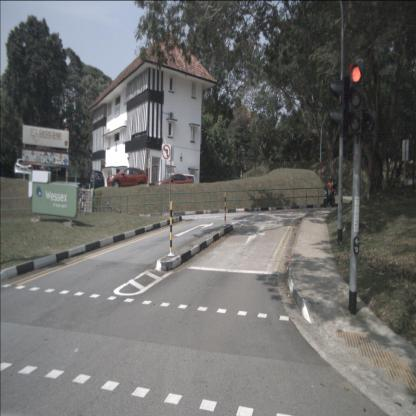vehicle-car: (107, 167, 147, 190), (154, 173, 193, 189), (84, 170, 105, 190), (39, 159, 57, 182), (14, 158, 33, 179)
vehicle-motorcycle: (323, 177, 337, 208)
